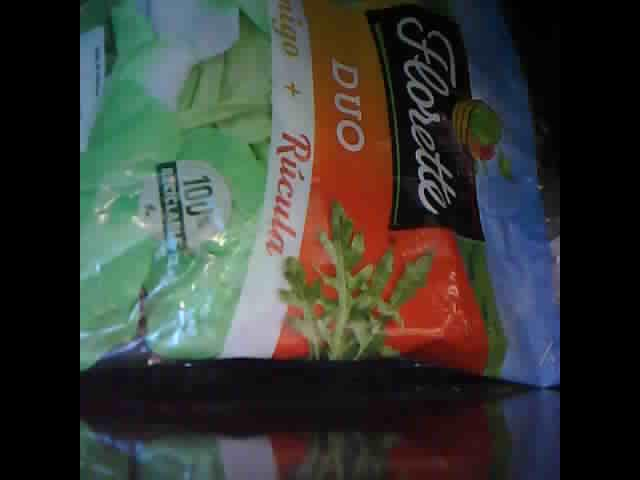florette: (83, 5, 554, 377)
